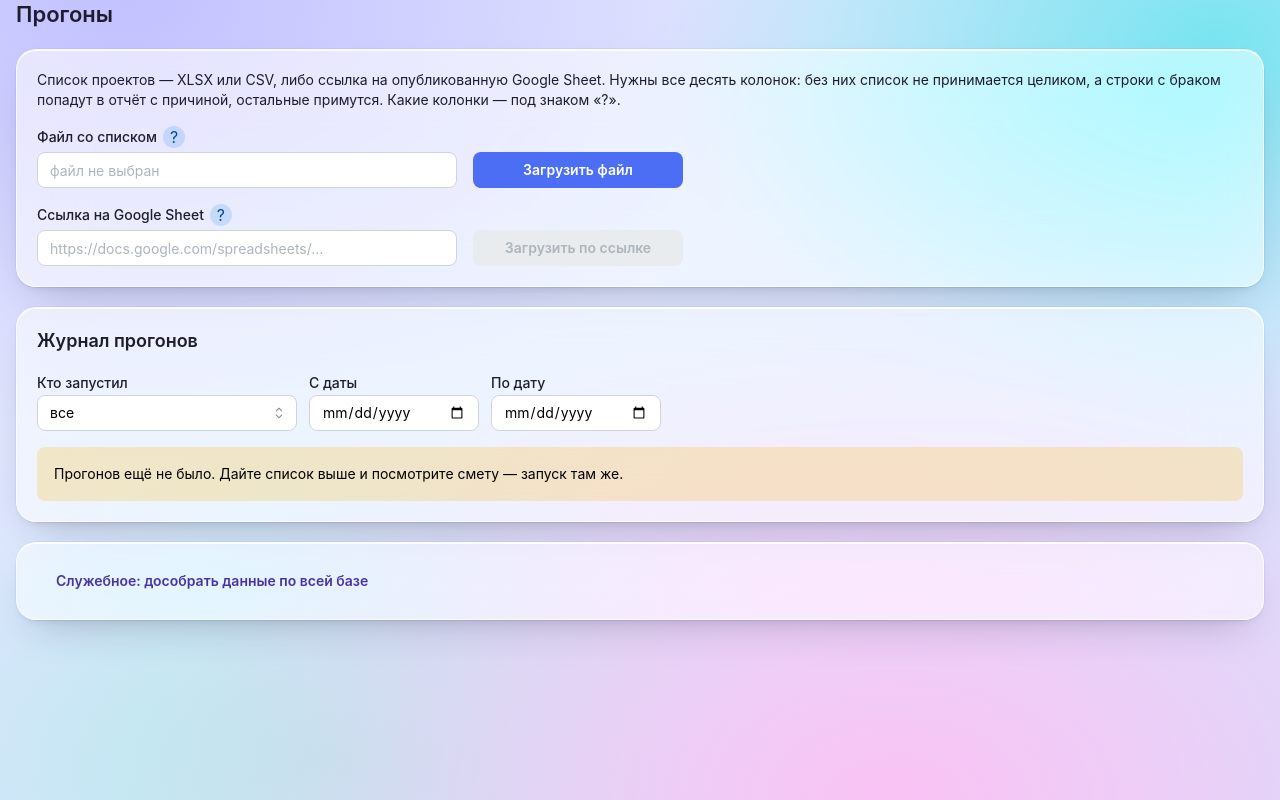
Test case: экран загрузки: прогон › E12: активный прогон отвечает отказом с его номером
Click the button "Служебное: дособрать данные по всей базе": click(212, 581) [37, 563, 387, 599]
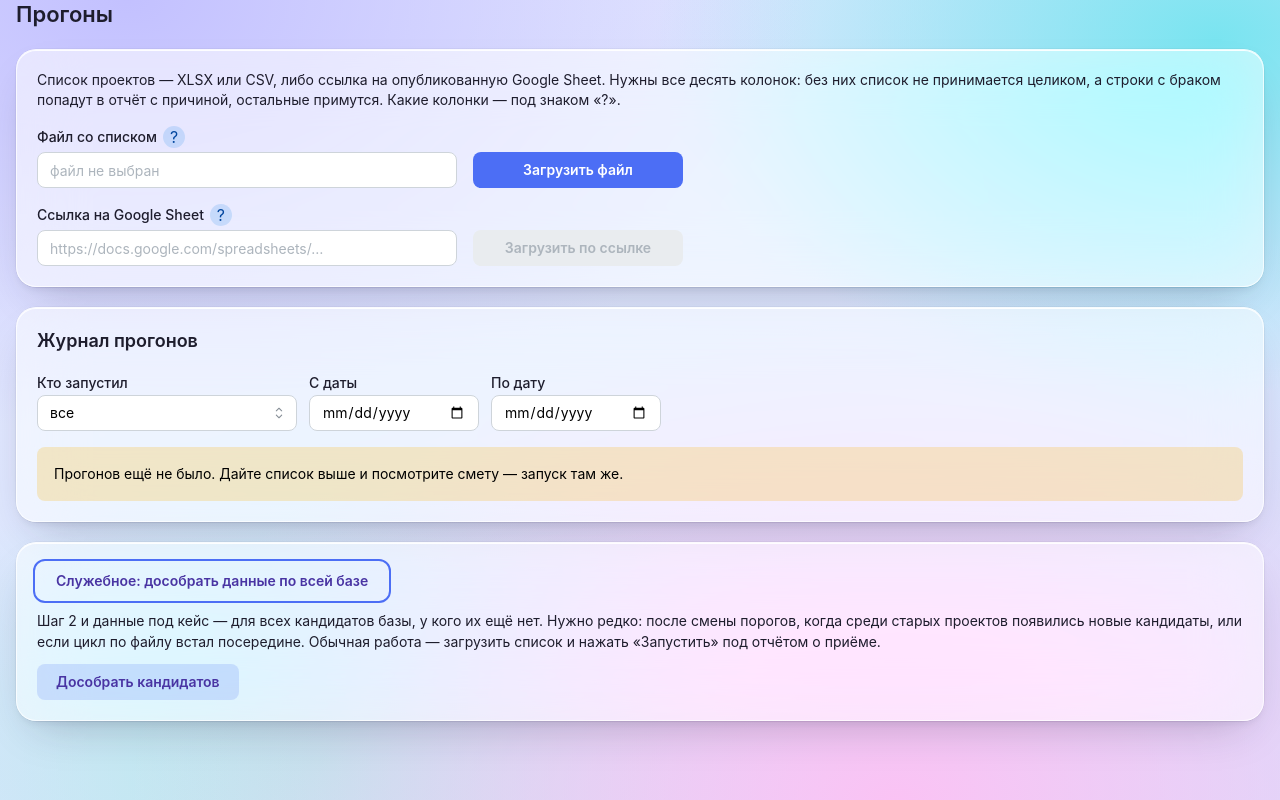
Click the button "Дособрать кандидатов": click(138, 682) [37, 664, 239, 700]
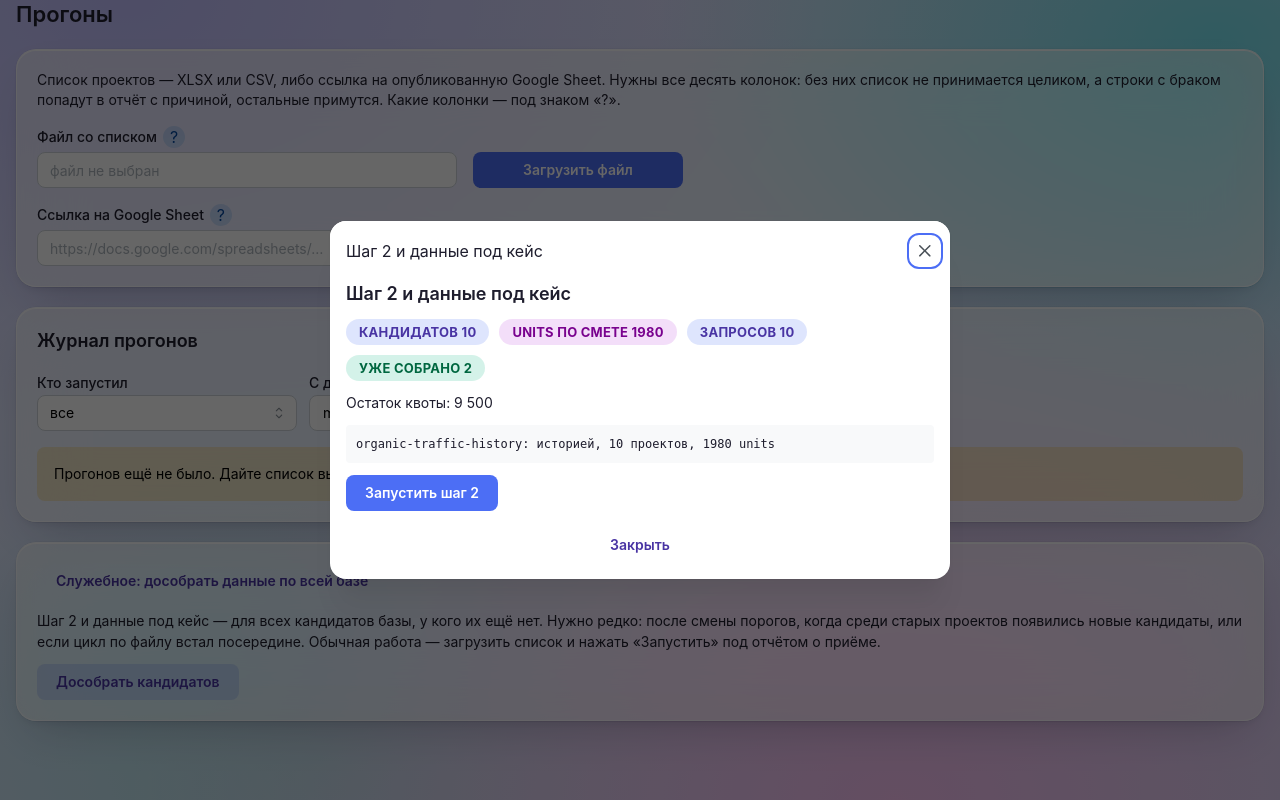
Now the dialog is shown, box [330, 220, 950, 580]
Click the button with test id "start-run": click(422, 494) [346, 476, 498, 512]
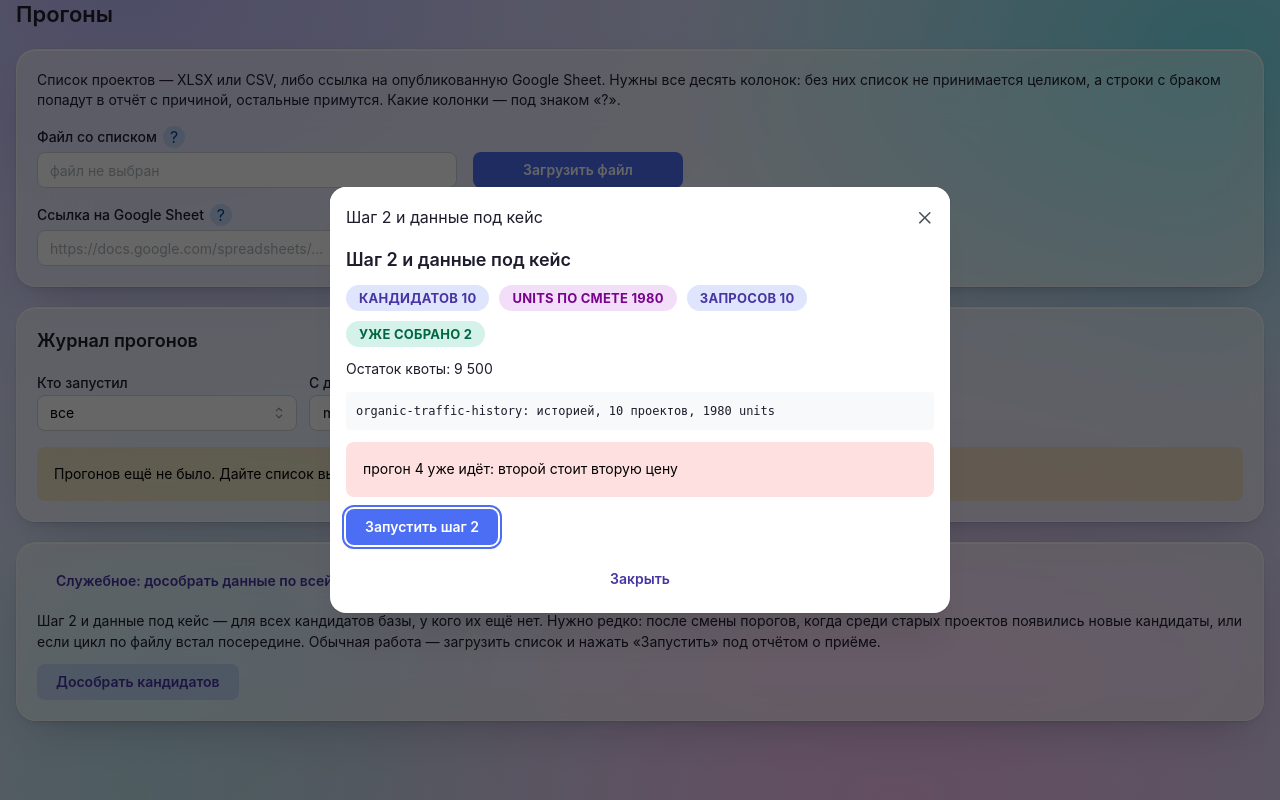
Now the text "прогон 4 уже идёт: второй стоит вторую цену" is shown, box [363, 460, 678, 477]
